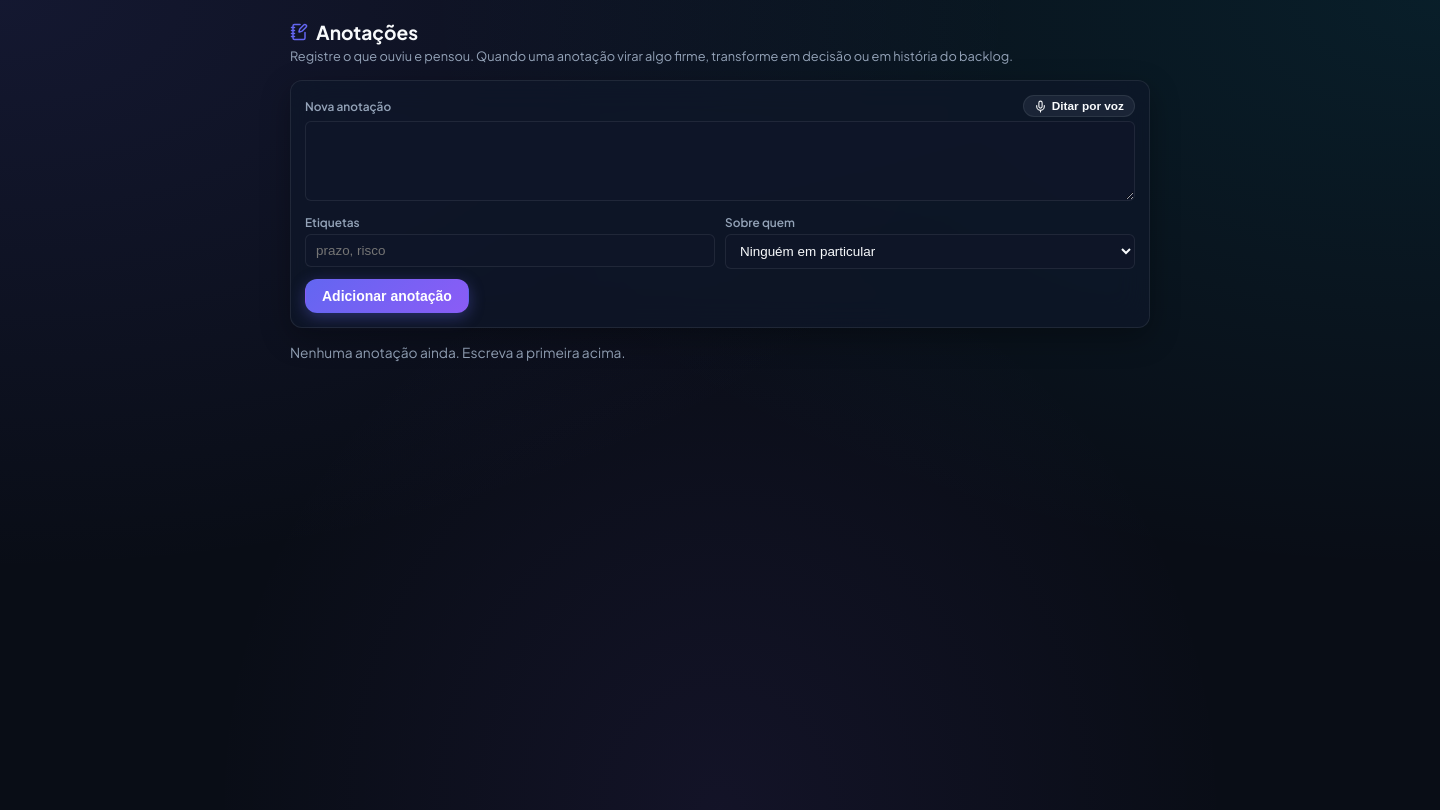
Test: NotesView: ditado por voz › o que é falado entra no campo da anotação, frase após frase
Click the button "Ditar por voz".
click(1079, 106)  # box [1023,95,1135,117]
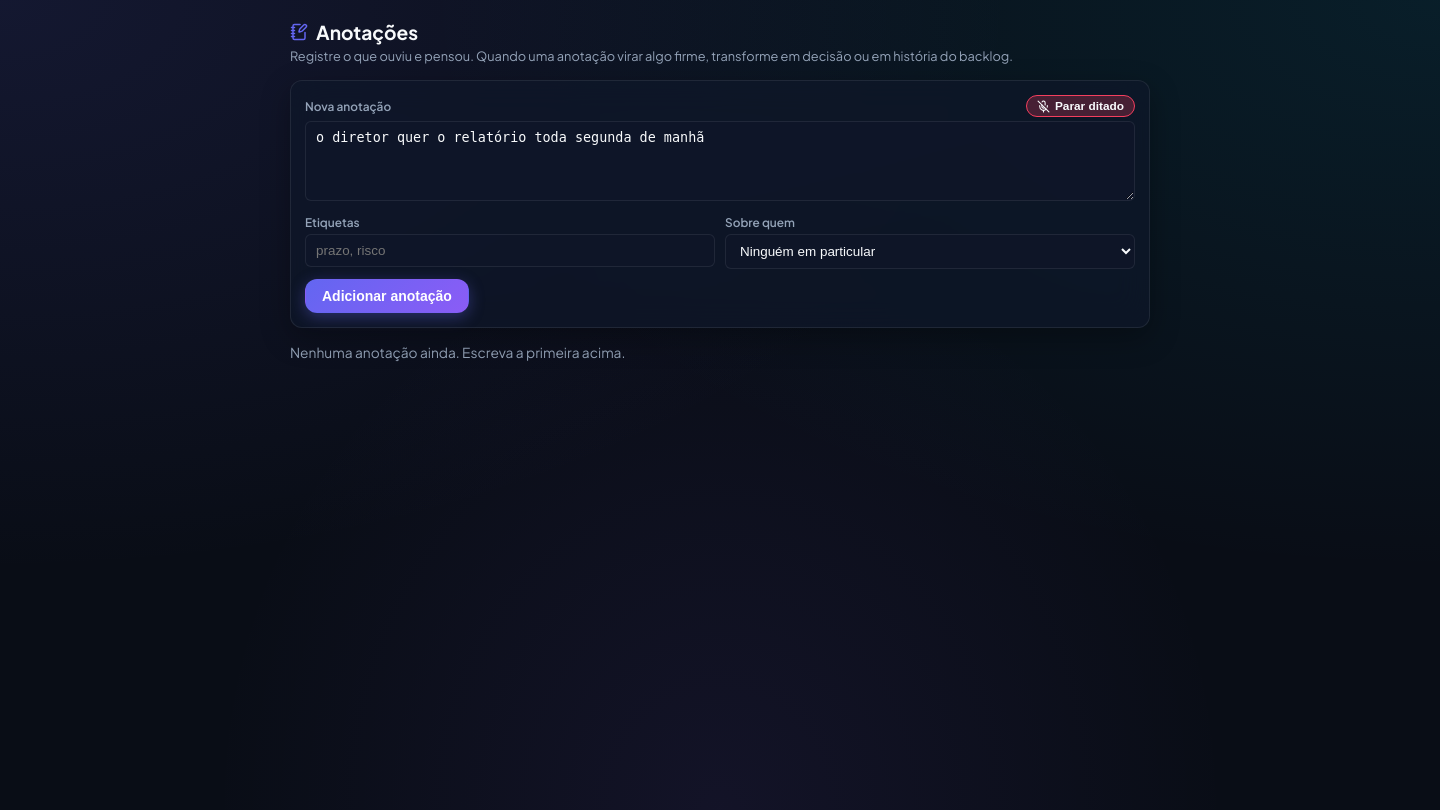
Expected: the text box labelled "Nova anotação" holds "o diretor quer o relatório toda segunda de manhã", [305,121,1135,201]
